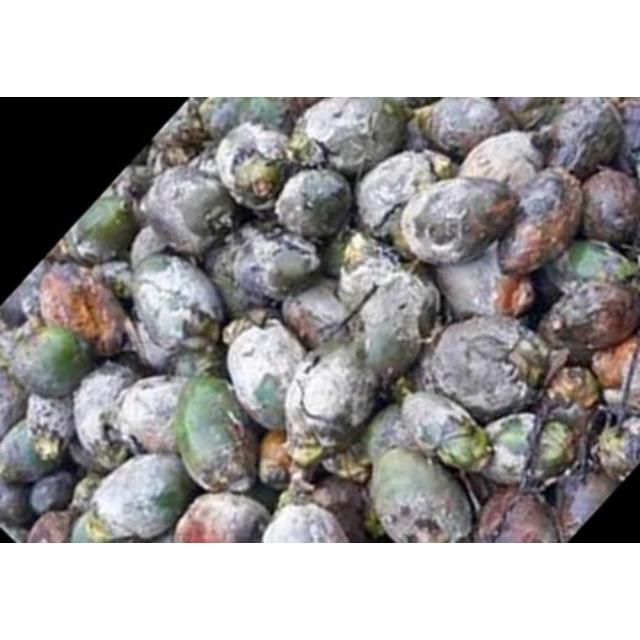damaged: (419, 315, 549, 423), (284, 342, 382, 454), (366, 446, 476, 544), (398, 176, 516, 266), (172, 375, 262, 493), (351, 268, 441, 382), (492, 168, 584, 276), (87, 452, 197, 542), (130, 253, 228, 353), (39, 260, 133, 358), (354, 150, 450, 244), (224, 322, 306, 432), (296, 97, 408, 177), (139, 165, 235, 258), (536, 278, 640, 360), (226, 224, 324, 306), (70, 362, 144, 468), (397, 392, 491, 474), (212, 122, 298, 210), (481, 409, 579, 485), (430, 246, 526, 322), (535, 98, 623, 180), (114, 374, 190, 460), (8, 324, 94, 400), (65, 188, 142, 266), (274, 168, 352, 242), (542, 239, 638, 297), (416, 98, 508, 158), (458, 132, 548, 192), (174, 491, 276, 542), (474, 486, 564, 542), (298, 477, 374, 543), (279, 282, 353, 348), (578, 168, 640, 246), (0, 414, 70, 482), (552, 468, 616, 542), (1, 260, 53, 330), (206, 98, 292, 140), (126, 316, 184, 376), (592, 416, 640, 482), (0, 363, 28, 443), (28, 472, 74, 516), (26, 511, 76, 544), (1, 480, 34, 526)
